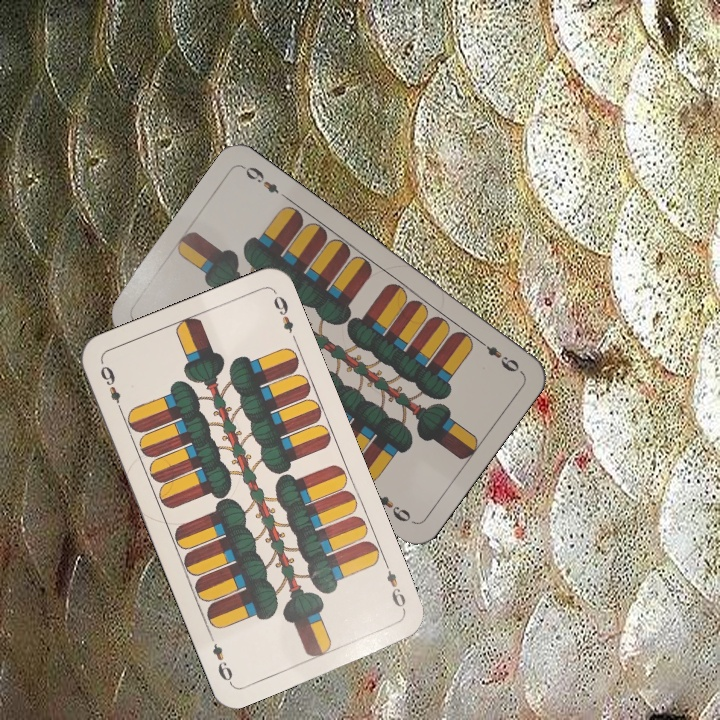E9: (473, 335, 522, 375), (380, 557, 409, 615), (96, 361, 126, 416)
